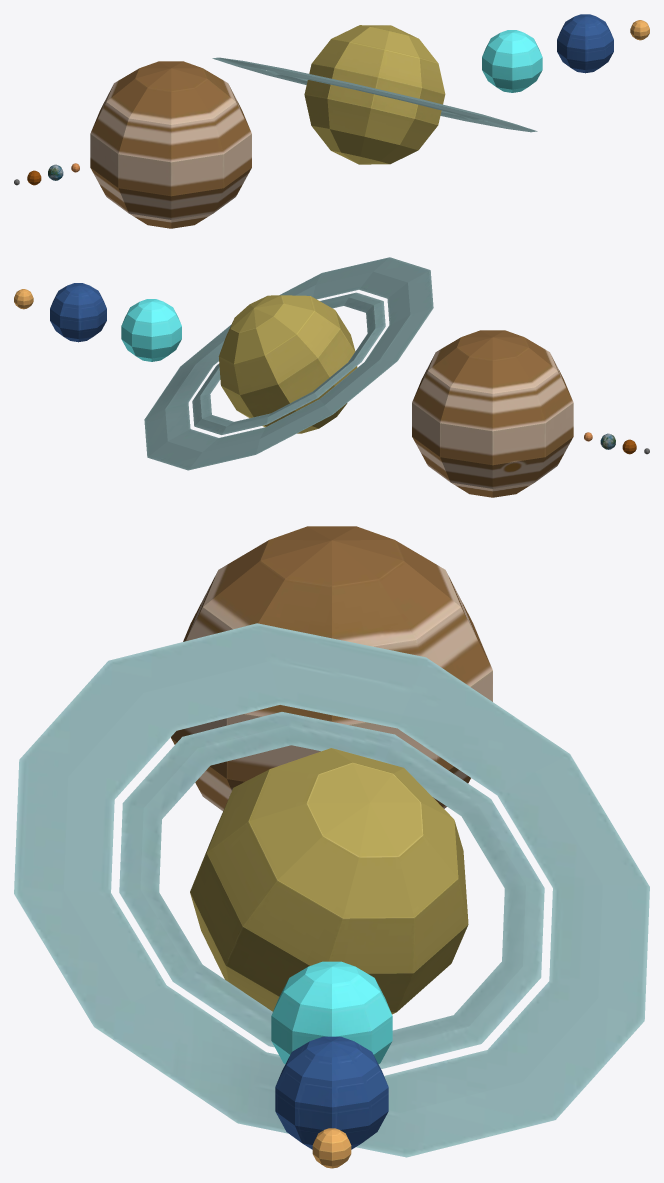
Rendered from pp-planets-set.glb.
The picture shows the model from 3 angles, top to bottom: view 1: azimuth 30°, elevation 25°; view 2: azimuth 150°, elevation 25°; view 3: azimuth 270°, elevation 25°; orthographic projection. The views are drawn at different scales.
Parts seen in each view (by area): view 1: Node; view 2: Node; view 3: Node.
Boxes of the visible parts, <box> form: Node: <box>14,14,649,228</box>; Node: <box>14,257,649,497</box>; Node: <box>14,526,649,1168</box>.
Bounding box in the file's own units: 32.86 × 7.55 × 14.32.
Materials: 2 (2 with a texture image).
